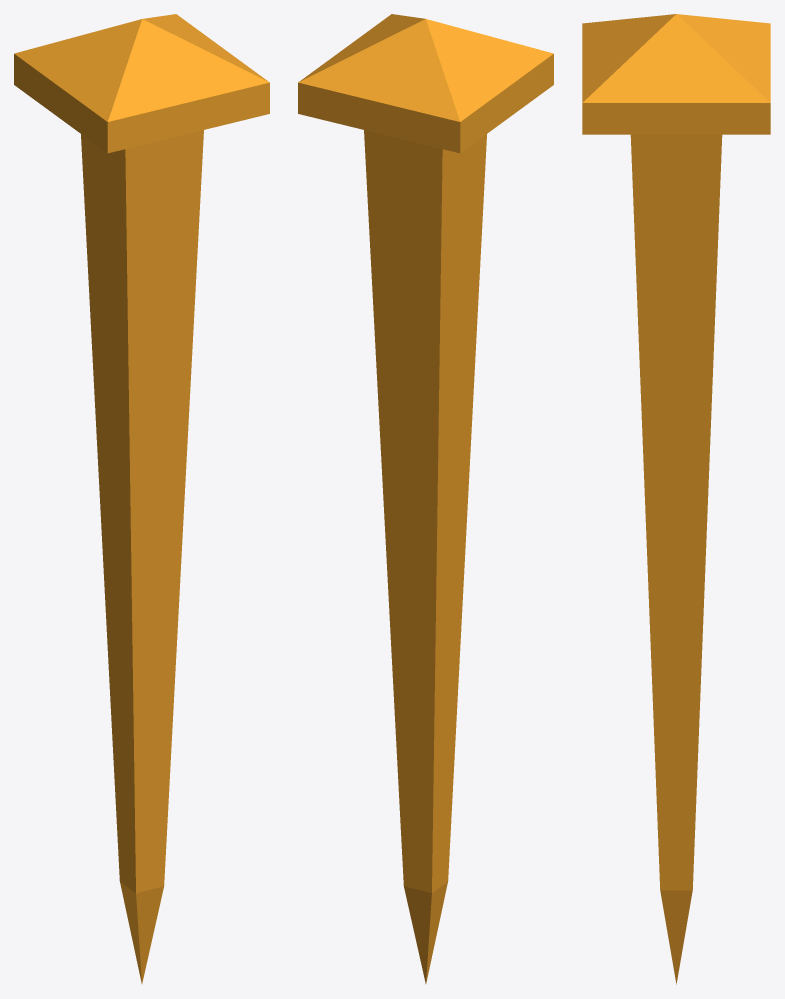
Rendered from SM_Nail_Fantasy.fbx.
The picture shows the model from 3 angles, left to right: view 1: azimuth 30°, elevation 25°; view 2: azimuth 150°, elevation 25°; view 3: azimuth 270°, elevation 25°; orthographic projection.
Parts seen in each view (by area): view 1: nail-medieval; view 2: nail-medieval; view 3: nail-medieval.
Boxes of the visible parts, x1,y1,x2,y2 form: nail-medieval: (14,14,269,983); nail-medieval: (298,14,553,983); nail-medieval: (582,14,770,984).
Size of the model in its own units: 0.0192 by 0.1091 by 0.0192.
